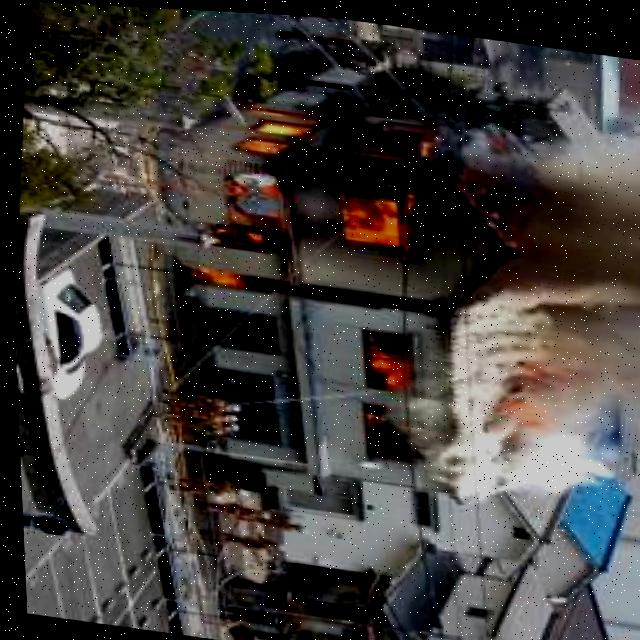Fire: (179, 71, 471, 319), (345, 314, 430, 469)
Smoke: (419, 119, 640, 511)
